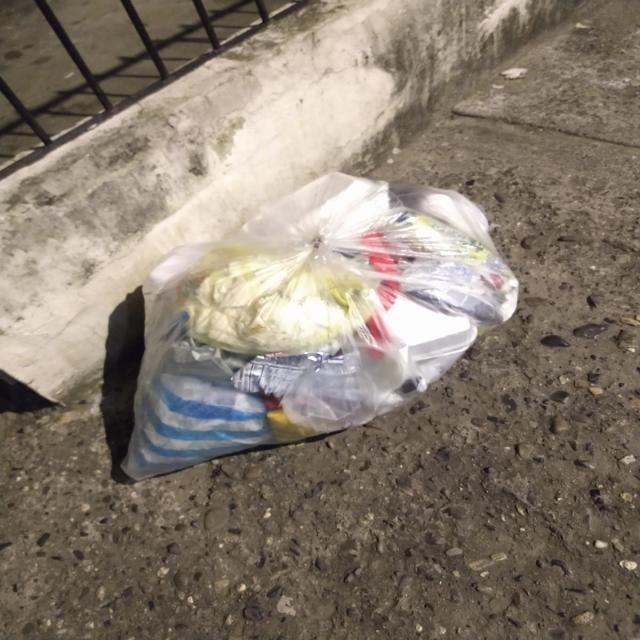Garbage_Bag: (113, 168, 519, 483)
